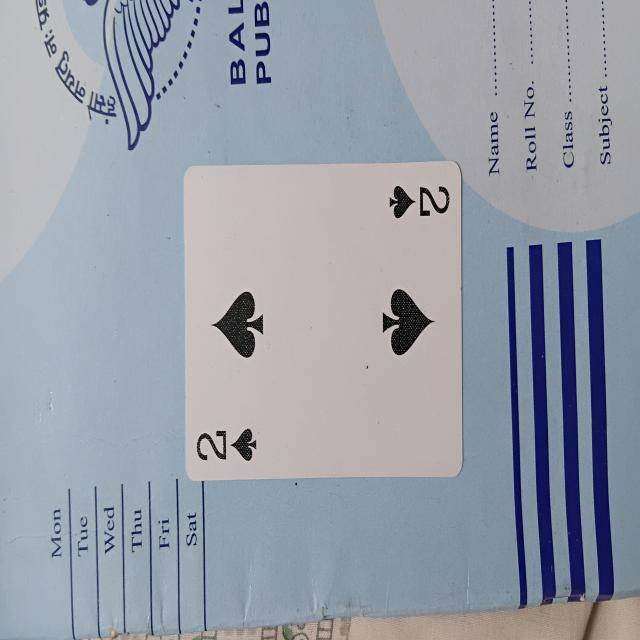2S: (184, 167, 465, 474)
